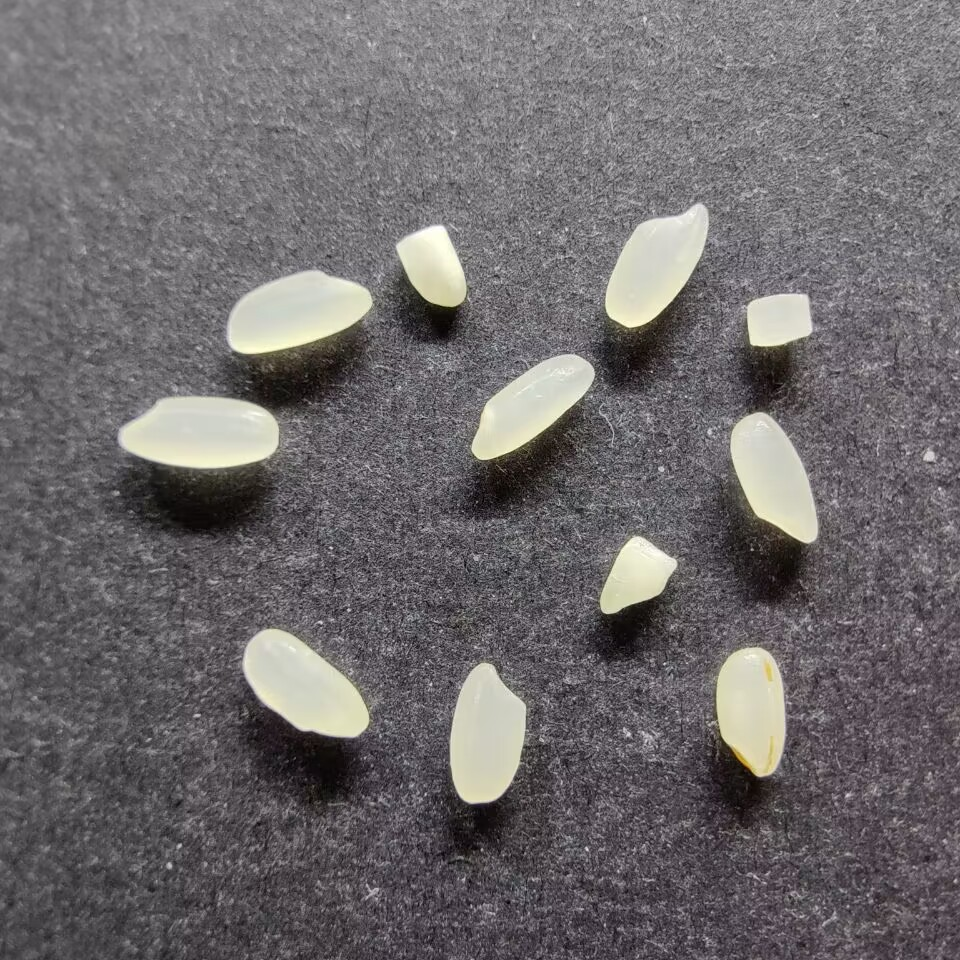broken: (598, 534, 677, 615), (394, 224, 466, 307), (746, 292, 812, 347)
rice: (242, 628, 369, 739), (470, 354, 595, 461), (604, 202, 709, 328), (226, 269, 371, 354), (117, 395, 279, 468), (729, 411, 818, 543), (448, 661, 527, 804), (715, 647, 786, 778)
